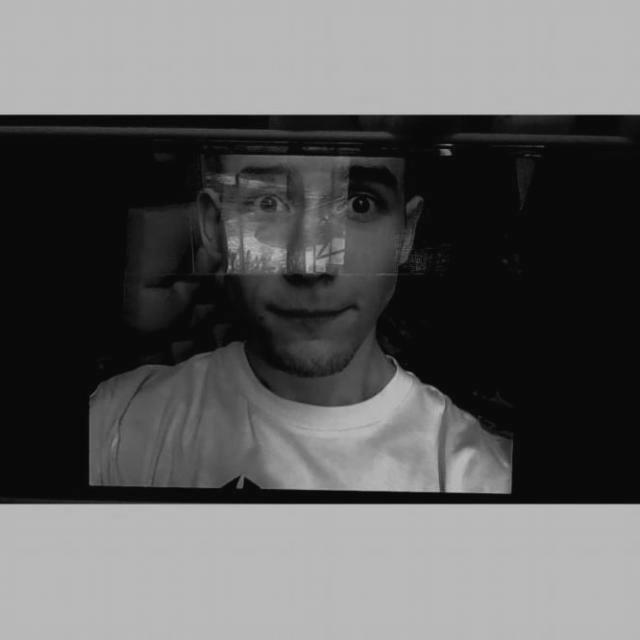fake: (0, 130, 640, 502)
